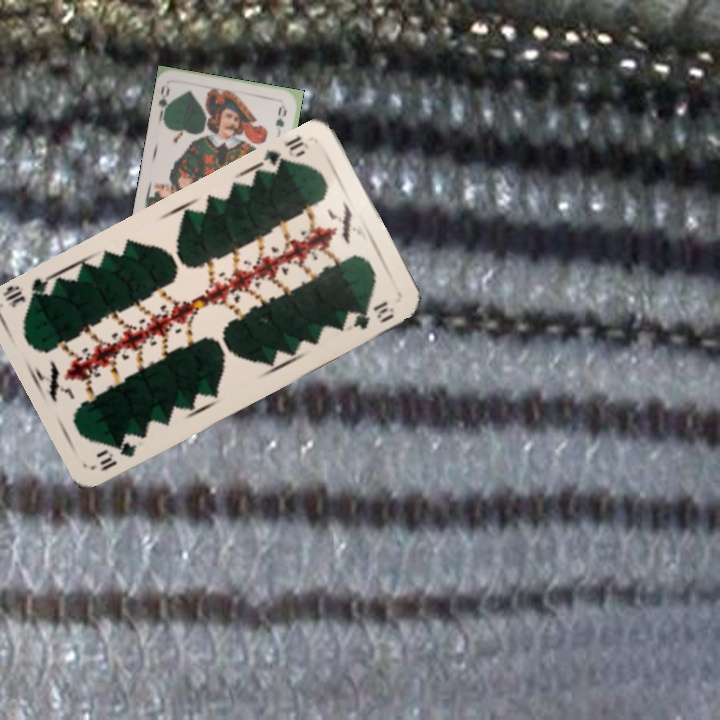G10: (257, 131, 312, 176), (92, 436, 139, 475)
GO: (154, 81, 175, 122)
